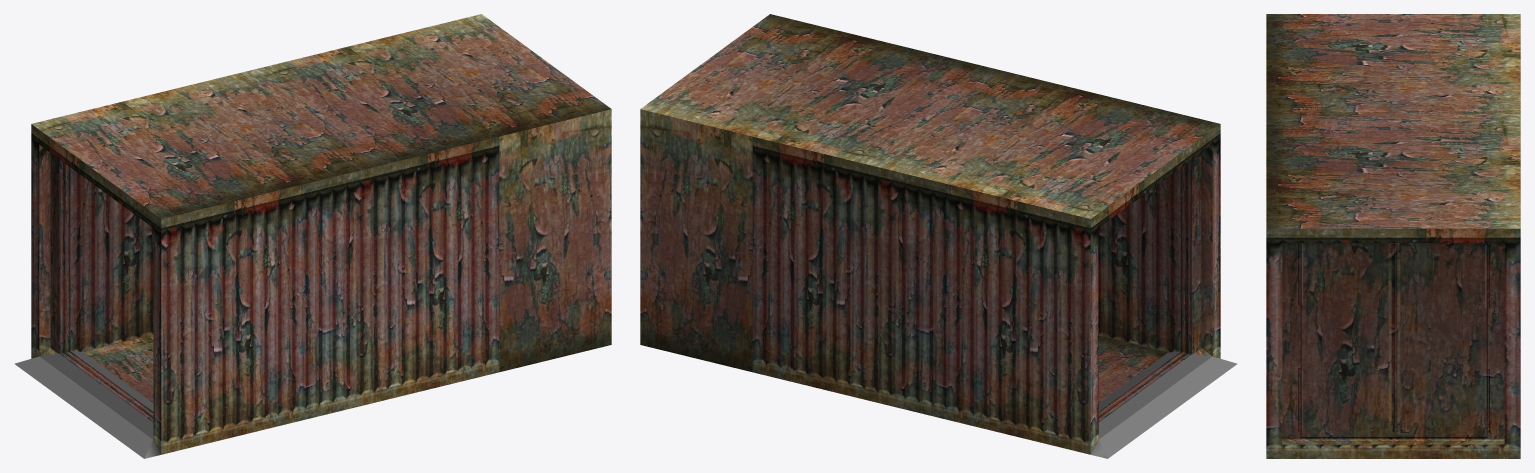
Rendered from M11_Crate_Big_Red01_Open.glb.
3 renders of one model, left to right at view 1: azimuth 30°, elevation 25°; view 2: azimuth 150°, elevation 25°; view 3: azimuth 270°, elevation 25°, orthographic. The views are drawn at different scales.
Visible parts, largest first — view 1: M11_CRATE_BIG_RED01_OPEN; view 2: M11_CRATE_BIG_RED01_OPEN; view 3: M11_CRATE_BIG_RED01_OPEN.
Boxes of the visible parts, x1,y1,x2,y2 form: M11_CRATE_BIG_RED01_OPEN: [14, 14, 611, 458]; M11_CRATE_BIG_RED01_OPEN: [640, 14, 1237, 458]; M11_CRATE_BIG_RED01_OPEN: [1266, 14, 1520, 458].
Bounding box in the file's own units: 8.3 × 4 × 4.
4 materials, 3 textured.
